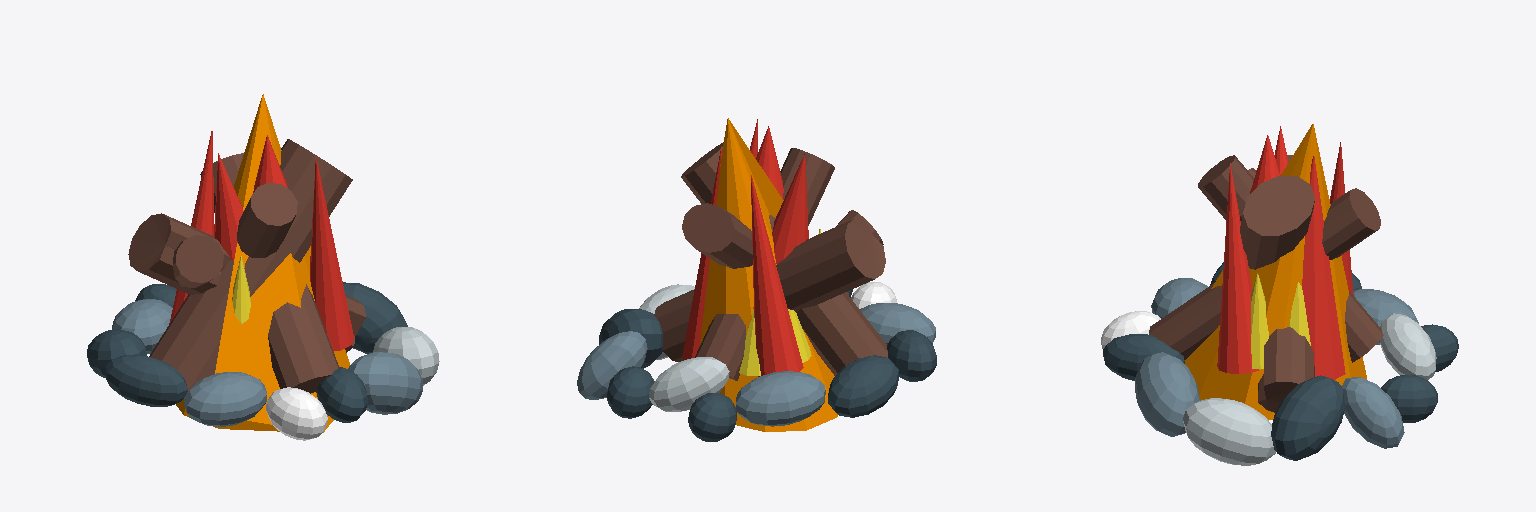
3 views of the same model, side by side, from view 1: azimuth 30°, elevation 25°; view 2: azimuth 150°, elevation 25°; view 3: azimuth 270°, elevation 25° (orthographic).
Parts seen in each view (by area): view 1: group[number redacted], group[number redacted], group[number redacted], group[number redacted], group[number redacted], group[number redacted], group[number redacted], group[number redacted], group[number redacted], group[number redacted], group[number redacted], group[number redacted] (+7 smaller); view 2: group[number redacted], group[number redacted], group[number redacted], group[number redacted], group[number redacted], group[number redacted], group[number redacted], group[number redacted], group[number redacted], group[number redacted], group[number redacted], group[number redacted] (+7 smaller); view 3: group[number redacted], group[number redacted], group[number redacted], group[number redacted], group[number redacted], group[number redacted], group[number redacted], group[number redacted], group[number redacted], group[number redacted], group[number redacted], group[number redacted] (+8 smaller).
Part boxes in pixels (left/top/right/bottom): group[number redacted]: left=149, top=139, right=352, bottom=393; group[number redacted]: left=176, top=94, right=349, bottom=432; group[number redacted]: left=310, top=157, right=354, bottom=351; group[number redacted]: left=128, top=213, right=365, bottom=352; group[number redacted]: left=184, top=372, right=266, bottom=426; group[number redacted]: left=348, top=352, right=422, bottom=414; group[number redacted]: left=105, top=355, right=187, bottom=406; group[number redacted]: left=266, top=387, right=327, bottom=440; group[number redacted]: left=343, top=282, right=407, bottom=353; group[number redacted]: left=173, top=235, right=223, bottom=287; group[number redacted]: left=317, top=367, right=367, bottom=422; group[number redacted]: left=373, top=327, right=439, bottom=385; group[number redacted]: left=681, top=142, right=887, bottom=380; group[number redacted]: left=700, top=118, right=837, bottom=431; group[number redacted]: left=654, top=218, right=885, bottom=361; group[number redacted]: left=751, top=175, right=803, bottom=376; group[number redacted]: left=736, top=371, right=825, bottom=426; group[number redacted]: left=828, top=355, right=898, bottom=417; group[number redacted]: left=649, top=357, right=729, bottom=411; group[number redacted]: left=577, top=331, right=647, bottom=399; group[number redacted]: left=772, top=154, right=808, bottom=263; group[number redacted]: left=887, top=330, right=936, bottom=381; group[number redacted]: left=688, top=393, right=736, bottom=441; group[number redacted]: left=607, top=366, right=654, bottom=418; group[number redacted]: left=1149, top=155, right=1383, bottom=362; group[number redacted]: left=1185, top=124, right=1366, bottom=419; group[number redacted]: left=1183, top=398, right=1275, bottom=465; group[number redacted]: left=1302, top=156, right=1345, bottom=379; group[number redacted]: left=1217, top=163, right=1258, bottom=373; group[number redacted]: left=1271, top=375, right=1344, bottom=460; group[number redacted]: left=1135, top=352, right=1199, bottom=436; group[number redacted]: left=1258, top=155, right=1314, bottom=412; group[number redacted]: left=1342, top=377, right=1404, bottom=448; group[number redacted]: left=1380, top=313, right=1436, bottom=379; group[number redacted]: left=1103, top=334, right=1184, bottom=380; group[number redacted]: left=1381, top=375, right=1437, bottom=422.
Bounding box in the file's own units: 0.5895 × 0.5221 × 0.5837.